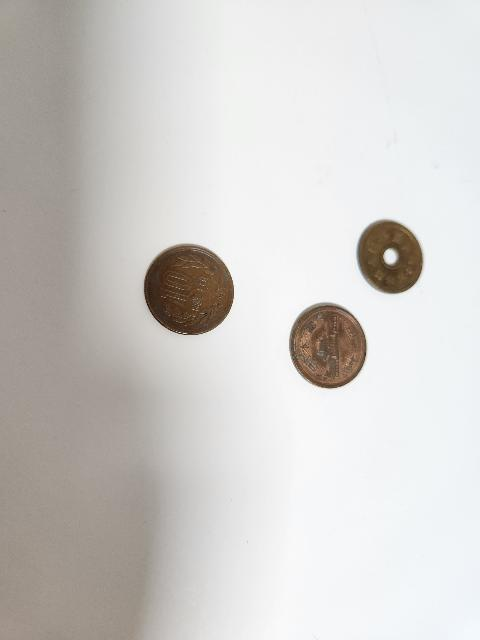coin: (146, 242, 236, 336), (288, 300, 368, 384), (358, 215, 422, 292)
